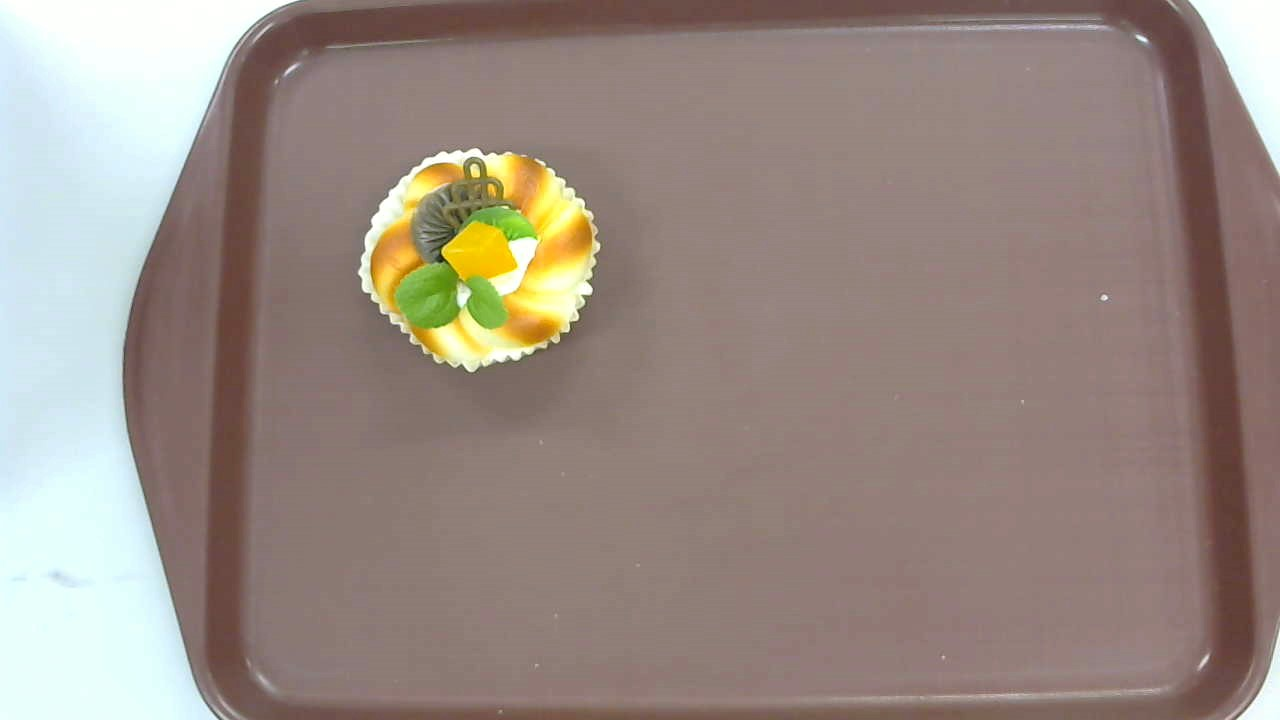fruit tart: (358, 147, 602, 373)
